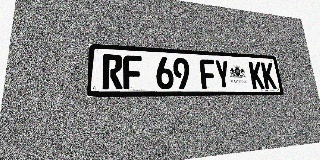6: (156, 57, 174, 89)
9: (173, 58, 191, 89)
F: (123, 55, 142, 89), (199, 59, 217, 89)
K: (248, 61, 265, 89), (261, 62, 277, 89)
R: (102, 54, 123, 89)
Y: (214, 60, 231, 89)
